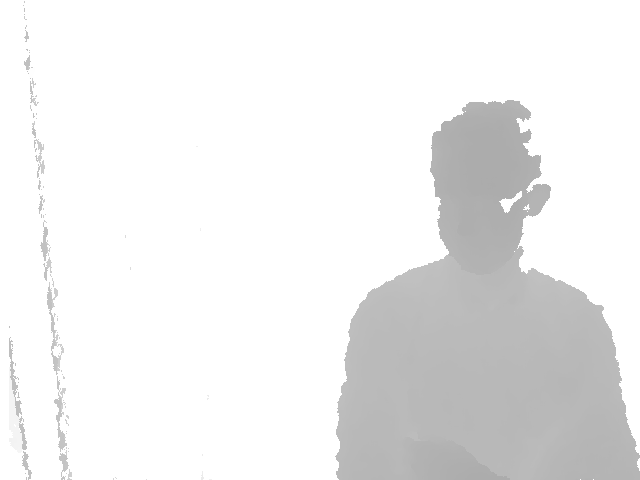head: (430, 99, 552, 274)
person: (335, 99, 640, 479)
